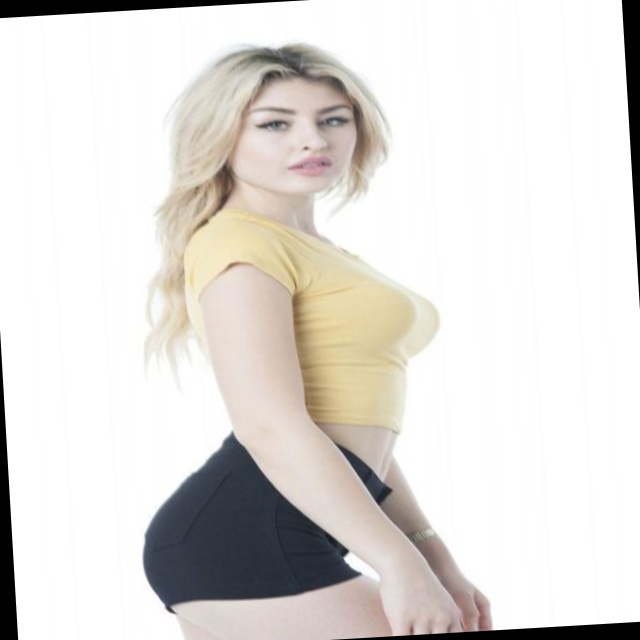Crop_Top: (295, 267, 451, 486)
Shorts: (131, 417, 410, 640)
